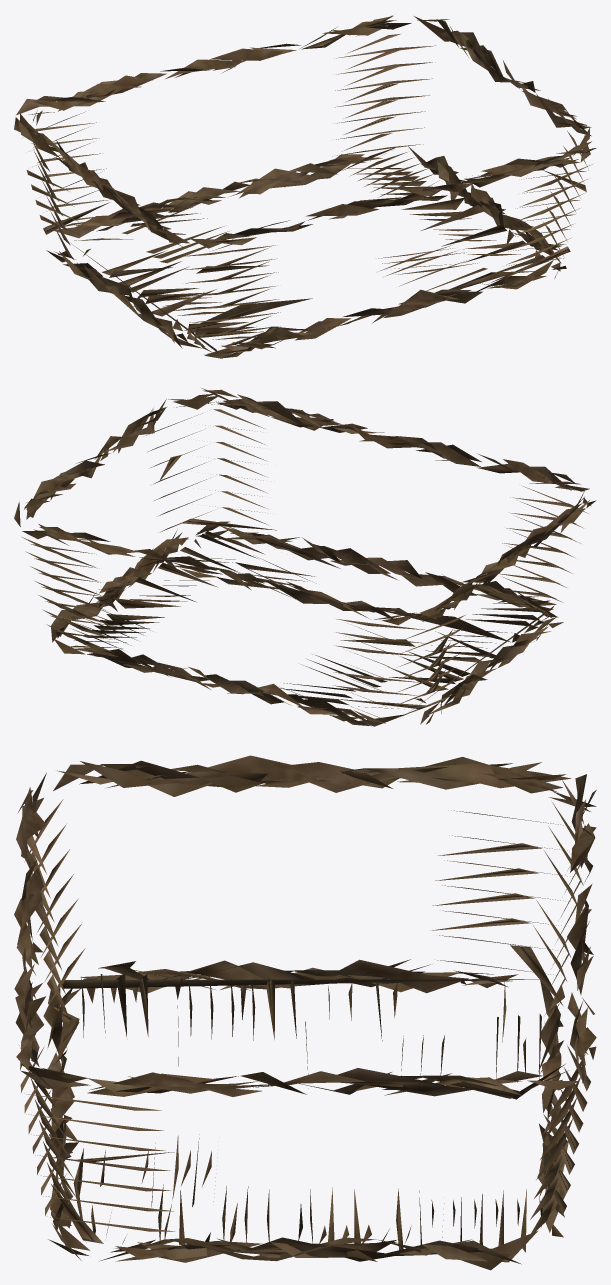
Rendered from ph_wicker_basket_01.glb.
3 renders of one model, top to bottom at view 1: azimuth 30°, elevation 25°; view 2: azimuth 150°, elevation 25°; view 3: azimuth 270°, elevation 25°, orthographic. The views are drawn at different scales.
Parts seen in each view (by area): view 1: wicker_basket_01; view 2: wicker_basket_01; view 3: wicker_basket_01.
Boxes of the visible parts, x1,y1,x2,y2 form: wicker_basket_01: [14, 15, 596, 358]; wicker_basket_01: [14, 388, 596, 726]; wicker_basket_01: [14, 755, 596, 1270].
Bounding box in the file's own units: 0.382 × 0.1208 × 0.2918.
1 material, 1 textured.
